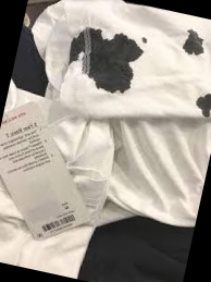ink: (69, 26, 144, 96), (181, 29, 208, 58), (192, 89, 211, 119)
